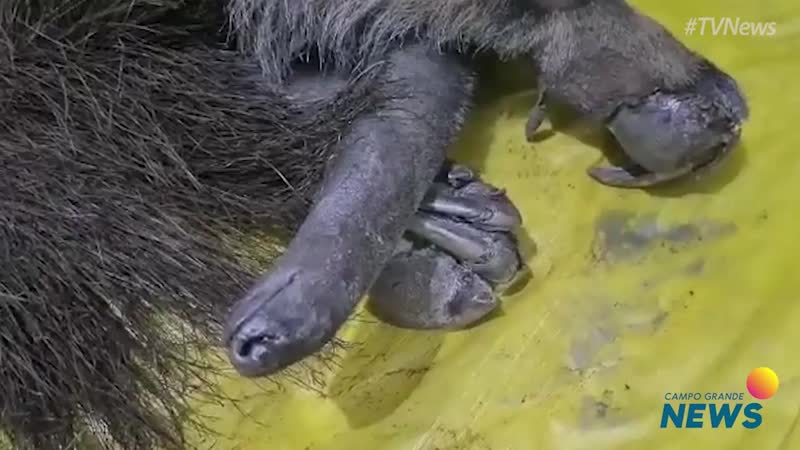TamanduaBandeira: (10, 4, 735, 373)
